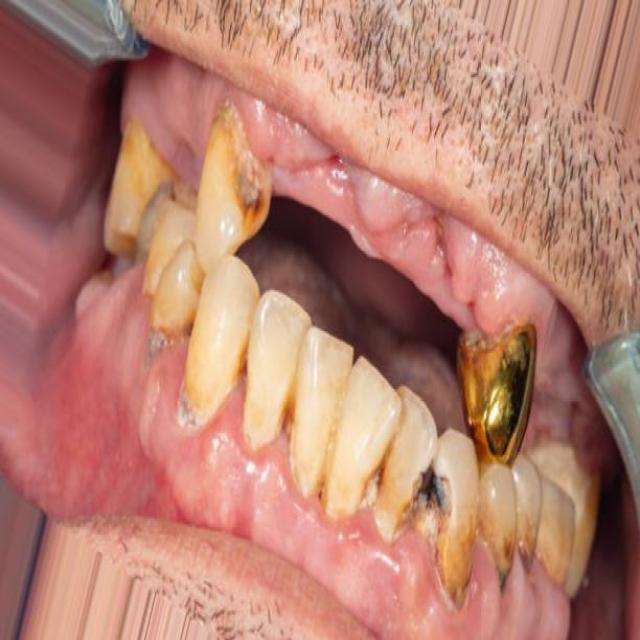caries: (400, 454, 445, 575), (354, 443, 396, 544), (227, 173, 274, 240), (480, 524, 518, 592), (138, 306, 178, 365), (514, 506, 541, 589)
